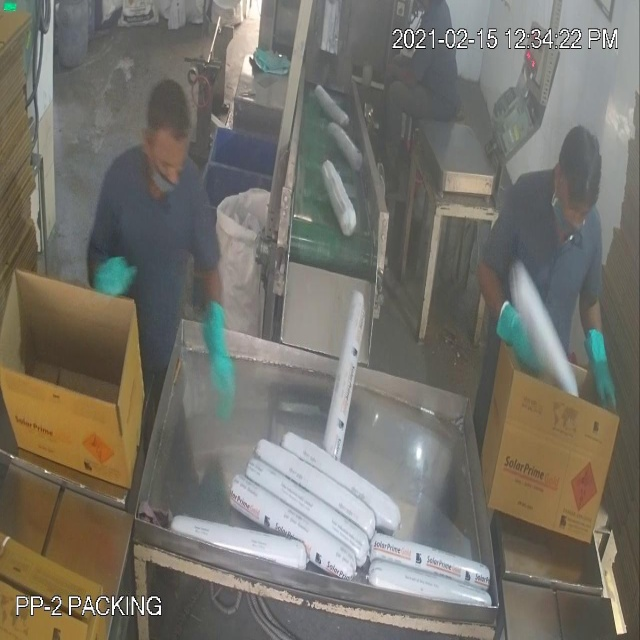Guantes: (187, 297, 239, 430), (484, 296, 545, 371), (582, 314, 616, 423)
